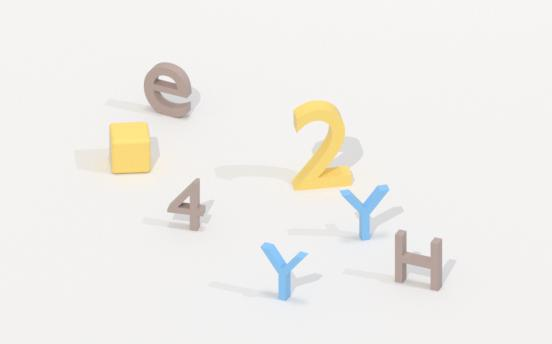2: (285, 97, 361, 203)
4: (162, 174, 209, 237)
H-hoa: (393, 224, 445, 296)
Y-hoa: (338, 178, 390, 249), (256, 237, 309, 305)
e: (140, 59, 195, 122)
hop: (105, 117, 157, 181)
